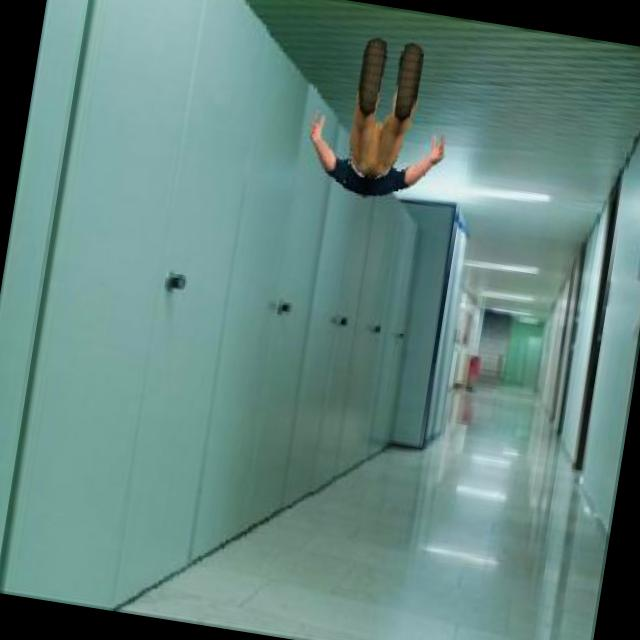Person: (294, 24, 465, 218)
